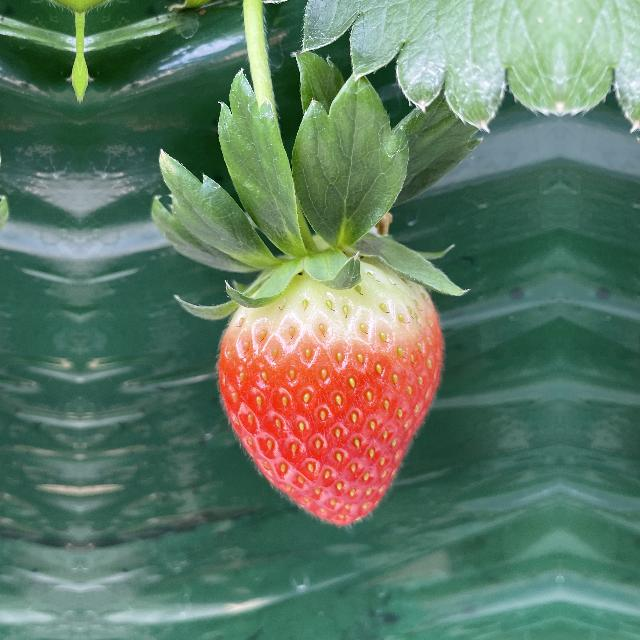Health_100: (208, 252, 450, 536)
